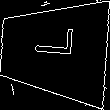L_W: (31, 34, 77, 68)
